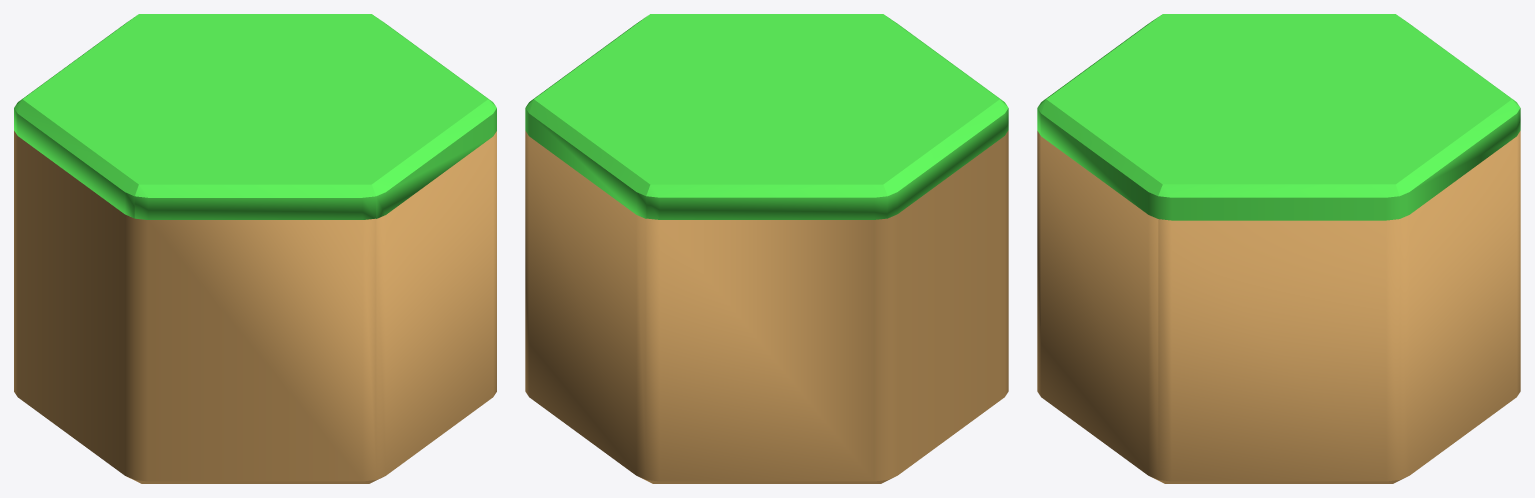
File: grass.fbx
3 views of the same model, side by side, from view 1: azimuth 30°, elevation 25°; view 2: azimuth 150°, elevation 25°; view 3: azimuth 270°, elevation 25° (orthographic).
Visible parts, largest first — view 1: dirt, grass; view 2: dirt, grass; view 3: dirt, grass.
Boxes of the visible parts, x1=… form: dirt: x1=14, y1=131, x2=496, y2=483; grass: x1=14, y1=14, x2=496, y2=219; dirt: x1=525, y1=130, x2=1008, y2=483; grass: x1=525, y1=14, x2=1008, y2=219; dirt: x1=1037, y1=131, x2=1520, y2=483; grass: x1=1037, y1=14, x2=1520, y2=220.
Bounding box in the file's own units: 165 × 129 × 187.
